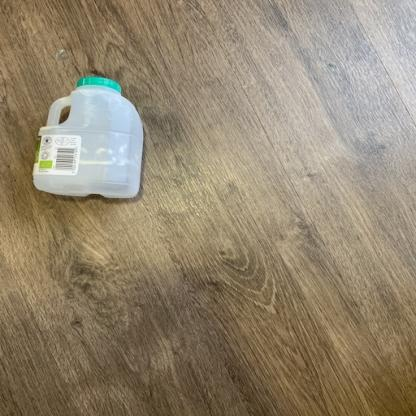trash: (31, 76, 142, 203)
